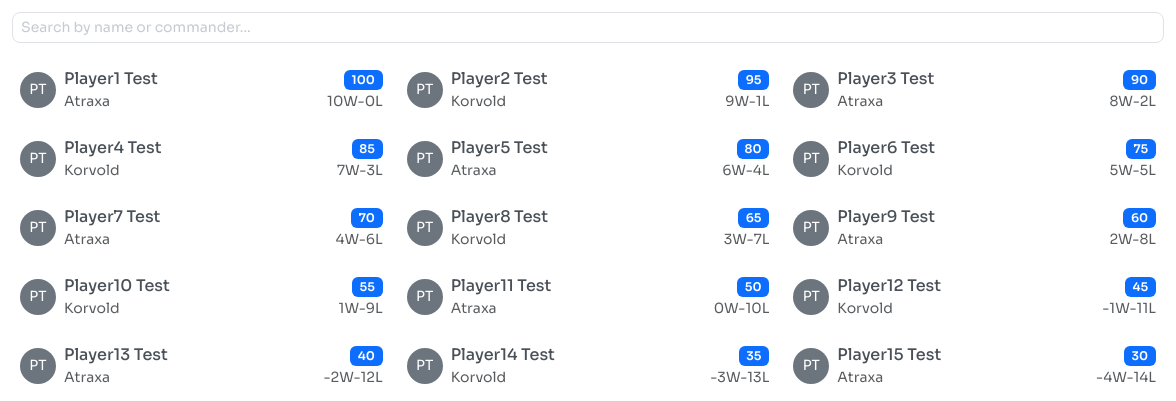
Test case: ParticipantsSection › search functionality › should show "no match" message when search yields no results
Type "nonexistent" into the field with placeholder "Search by name or commander..." at (588,28), box [12,12,1164,43]
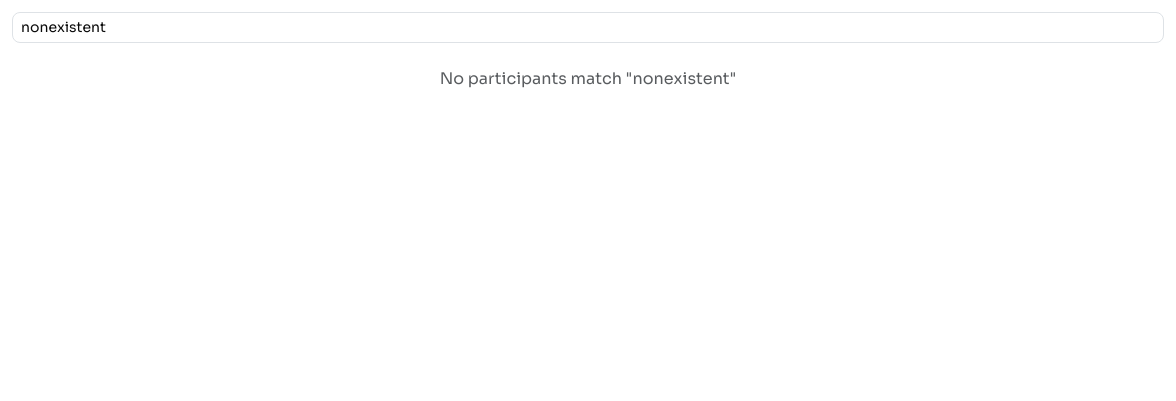
Expected: the text "No participants match \"nonexistent\"" is shown, [440,68,736,89]
